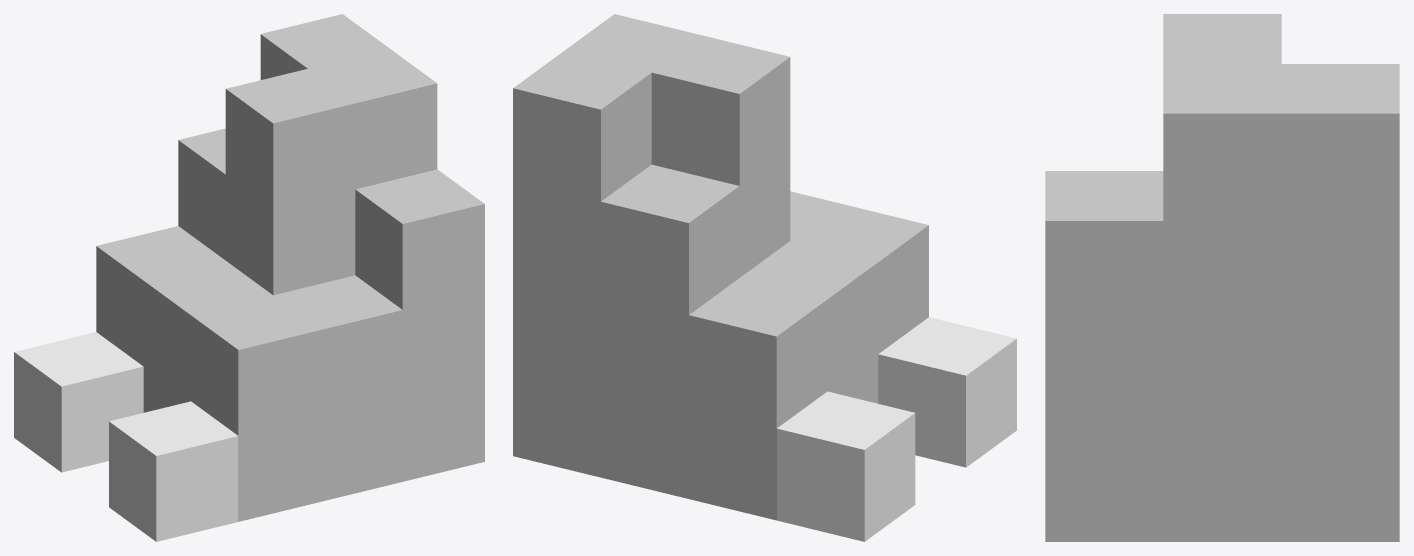
File: SkelBossLeftCalf.dae
3 renders of one model, left to right at view 1: azimuth 30°, elevation 25°; view 2: azimuth 150°, elevation 25°; view 3: azimuth 270°, elevation 25°, orthographic. The views are drawn at different scales.
Parts seen in each view (by area): view 1: SkelBossLeftCalf; view 2: SkelBossLeftCalf; view 3: SkelBossLeftCalf.
Boxes of the visible parts, <box> form: SkelBossLeftCalf: <box>14,14,484,541</box>; SkelBossLeftCalf: <box>513,14,1016,541</box>; SkelBossLeftCalf: <box>1045,14,1399,541</box>.
Size of the model in its own units: 0.4 by 0.3 by 0.4.
Materials: 1 (1 with a texture image).
